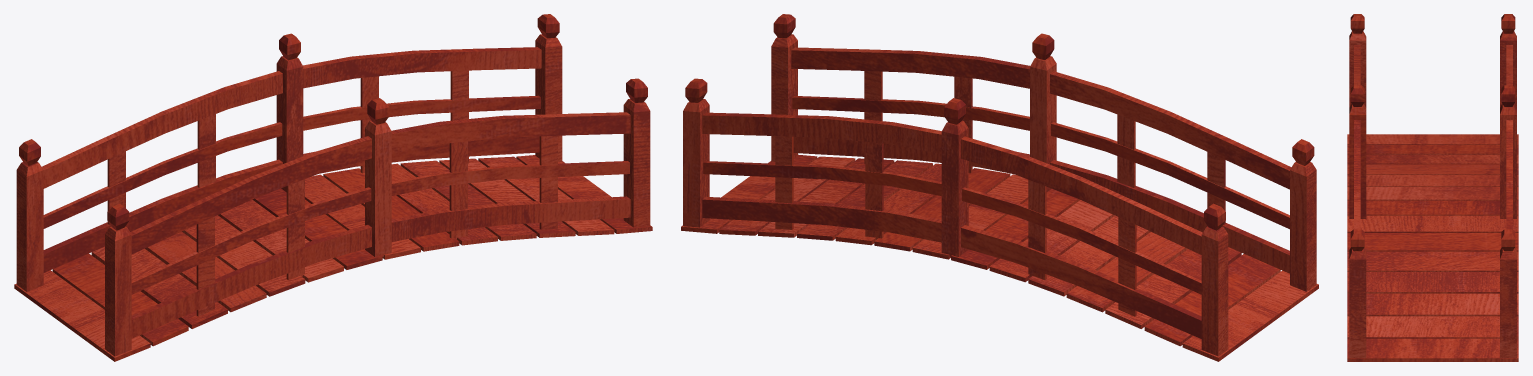
File: JPbridge.fbx
The picture shows the model from 3 angles, left to right: view 1: azimuth 30°, elevation 25°; view 2: azimuth 150°, elevation 25°; view 3: azimuth 270°, elevation 25°; orthographic projection. The views are drawn at different scales.
Parts seen in each view (by area): view 1: Cube.031; view 2: Cube.031; view 3: Cube.031.
Boxes of the visible parts, x1,y1,x2,y2 form: Cube.031: (14, 14, 652, 361); Cube.031: (681, 14, 1318, 361); Cube.031: (1347, 14, 1518, 361).
Bounding box in the file's own units: 902 × 307 × 292.
Materials: 1 (1 with a texture image).
